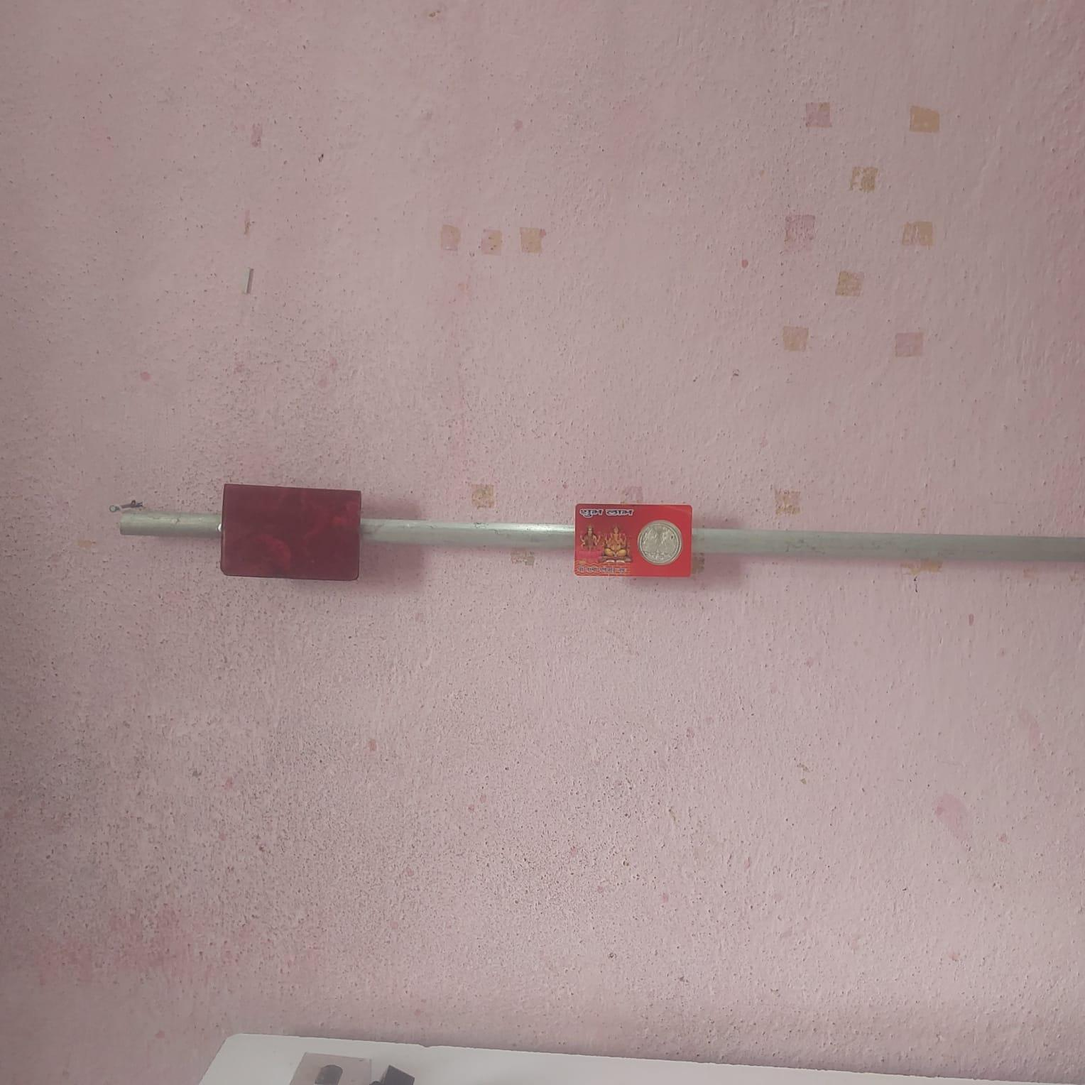blessing_card: (574, 497, 703, 583)
wallet: (222, 482, 365, 580)
